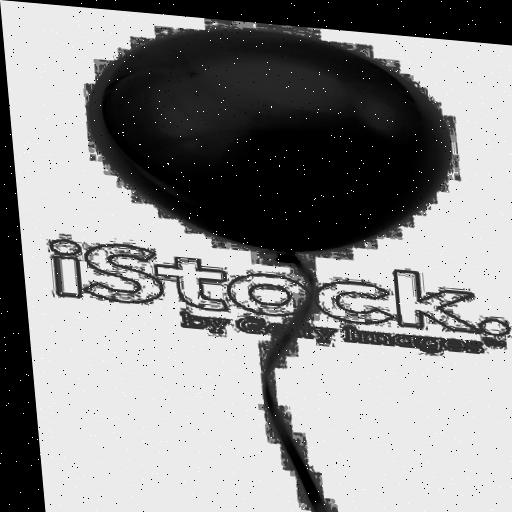balloon: (65, 10, 473, 292)
